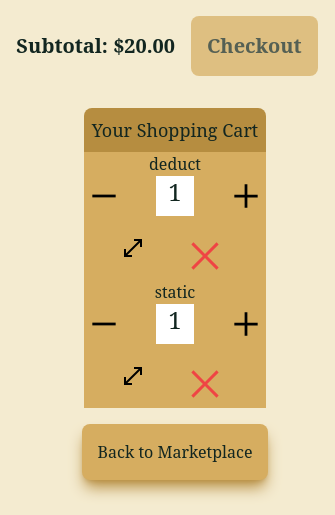
Scenario: Cart removes item from itemsMap if user clicks corresponding button › Item price (corresponding to amounts) deducted from total when item is removed
Expected: the text with test id "totalPrice" reads "$20.00", x1=113 y1=32 x2=175 y2=59
Click the button named "increment.deduct".
click(246, 196)  # box x1=226 y1=176 x2=266 y2=216
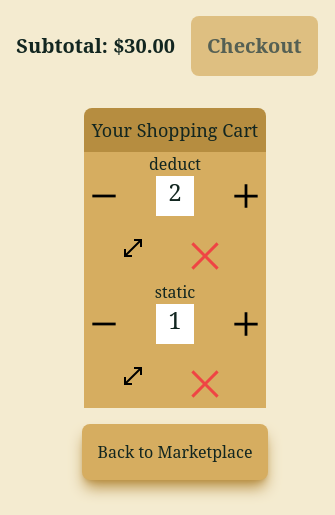
Expected: the text with test id "totalPrice" reads "$30.00", x1=113 y1=32 x2=175 y2=59
Click the button named "decrement.deduct".
click(104, 196)  # box x1=84 y1=176 x2=124 y2=216
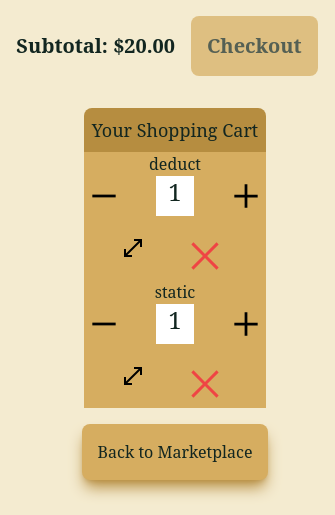
Expected: the text with test id "totalPrice" reads "$20.00", x1=113 y1=32 x2=175 y2=59
Click the button named "remove.deduct".
click(205, 256)  # box x1=181 y1=232 x2=229 y2=280
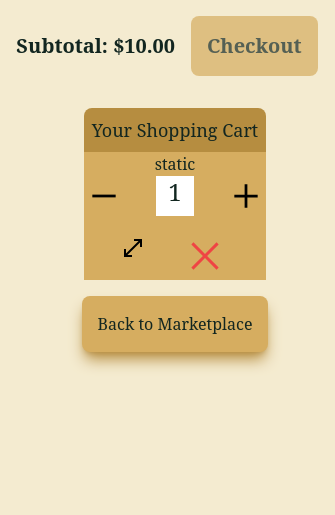
Expected: the text with test id "totalPrice" reads "$10.00", x1=113 y1=32 x2=175 y2=59
